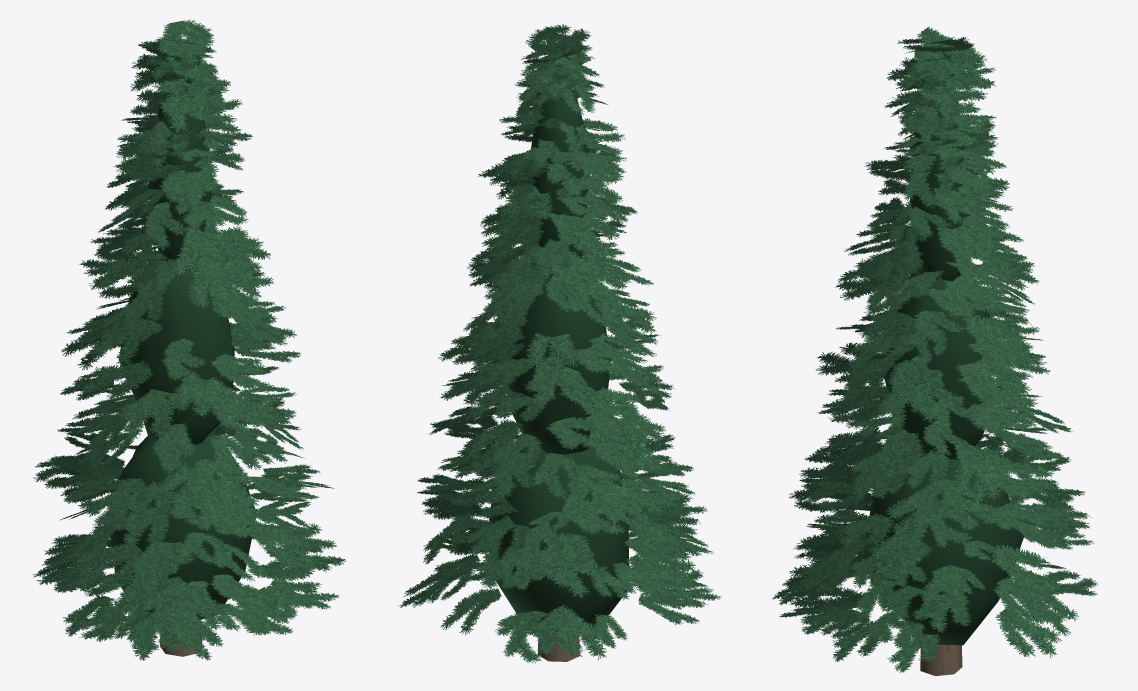
Rendered from ABIES_1.glb.
3 views of the same model, side by side, from view 1: azimuth 30°, elevation 25°; view 2: azimuth 150°, elevation 25°; view 3: azimuth 270°, elevation 25° (orthographic). The views are drawn at different scales.
Visible parts, largest first — view 1: Arv_ABIES_lod1; view 2: Arv_ABIES_lod1; view 3: Arv_ABIES_lod1.
Part boxes in pixels (left/top/right/bottom): Arv_ABIES_lod1: left=32, top=19, right=346, bottom=660; Arv_ABIES_lod1: left=398, top=24, right=721, bottom=663; Arv_ABIES_lod1: left=772, top=26, right=1098, bottom=675.
Size of the model in its own units: 5.29 by 10.12 by 5.25.
Materials: 3 (2 with a texture image).
